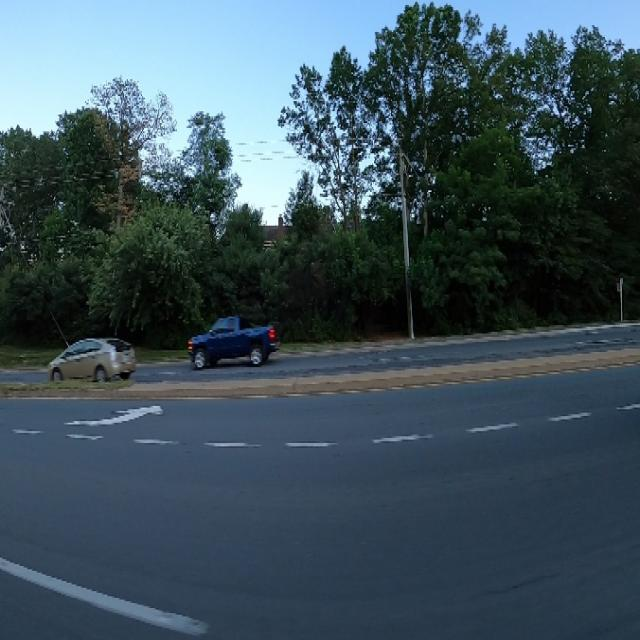car: (178, 303, 284, 374), (41, 329, 136, 393)
